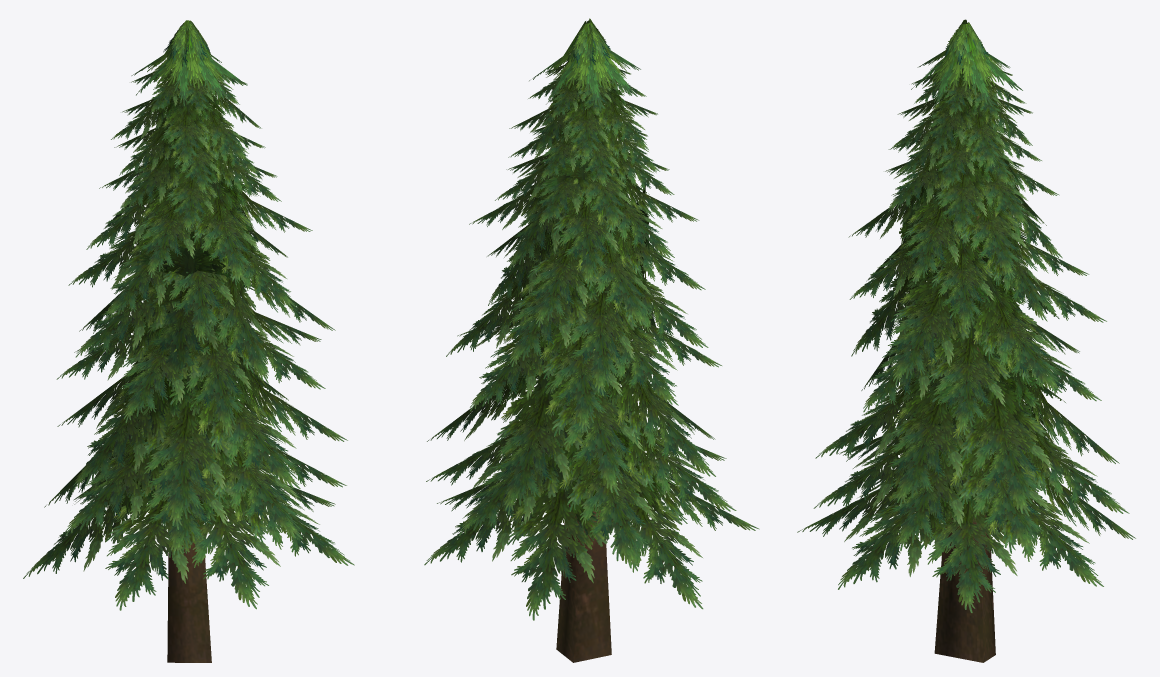
Rendered from SC_SLtree04.FBX.
3 views of the same model, side by side, from view 1: azimuth 30°, elevation 25°; view 2: azimuth 150°, elevation 25°; view 3: azimuth 270°, elevation 25° (orthographic).
Visible parts, largest first — view 1: SC_SLtree04; view 2: SC_SLtree04; view 3: SC_SLtree04.
Part boxes in pixels (x1,y1,x2,y2): SC_SLtree04: (23,20,354,662); SC_SLtree04: (424,18,759,662); SC_SLtree04: (797,19,1135,662).
Size of the model in its own units: 3.69 by 7.34 by 3.69.
